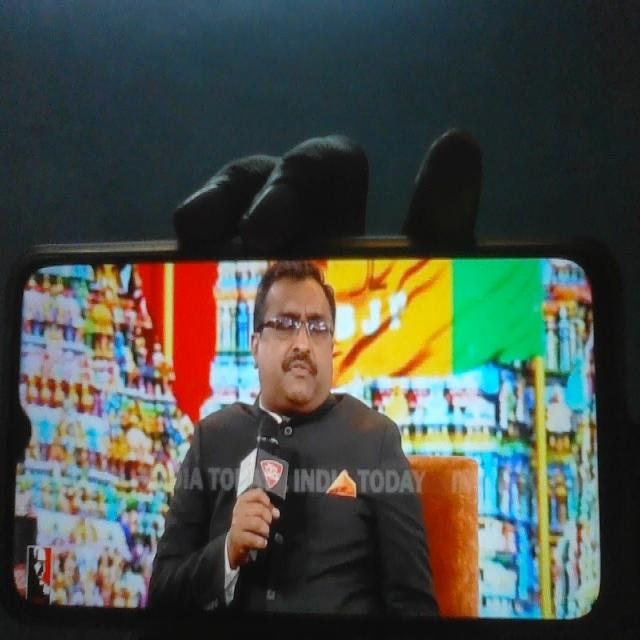fake: (249, 227, 355, 428)
